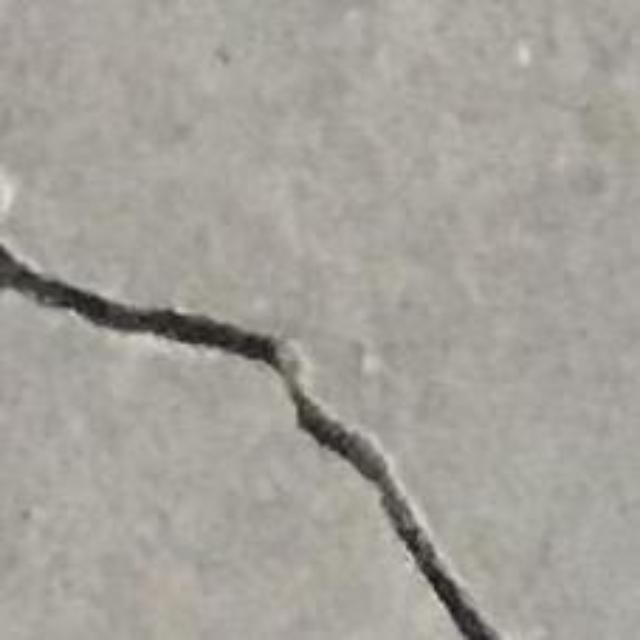crack: (0, 243, 501, 639)
